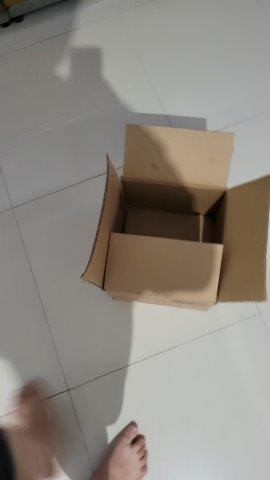kardus: (77, 123, 270, 309)
